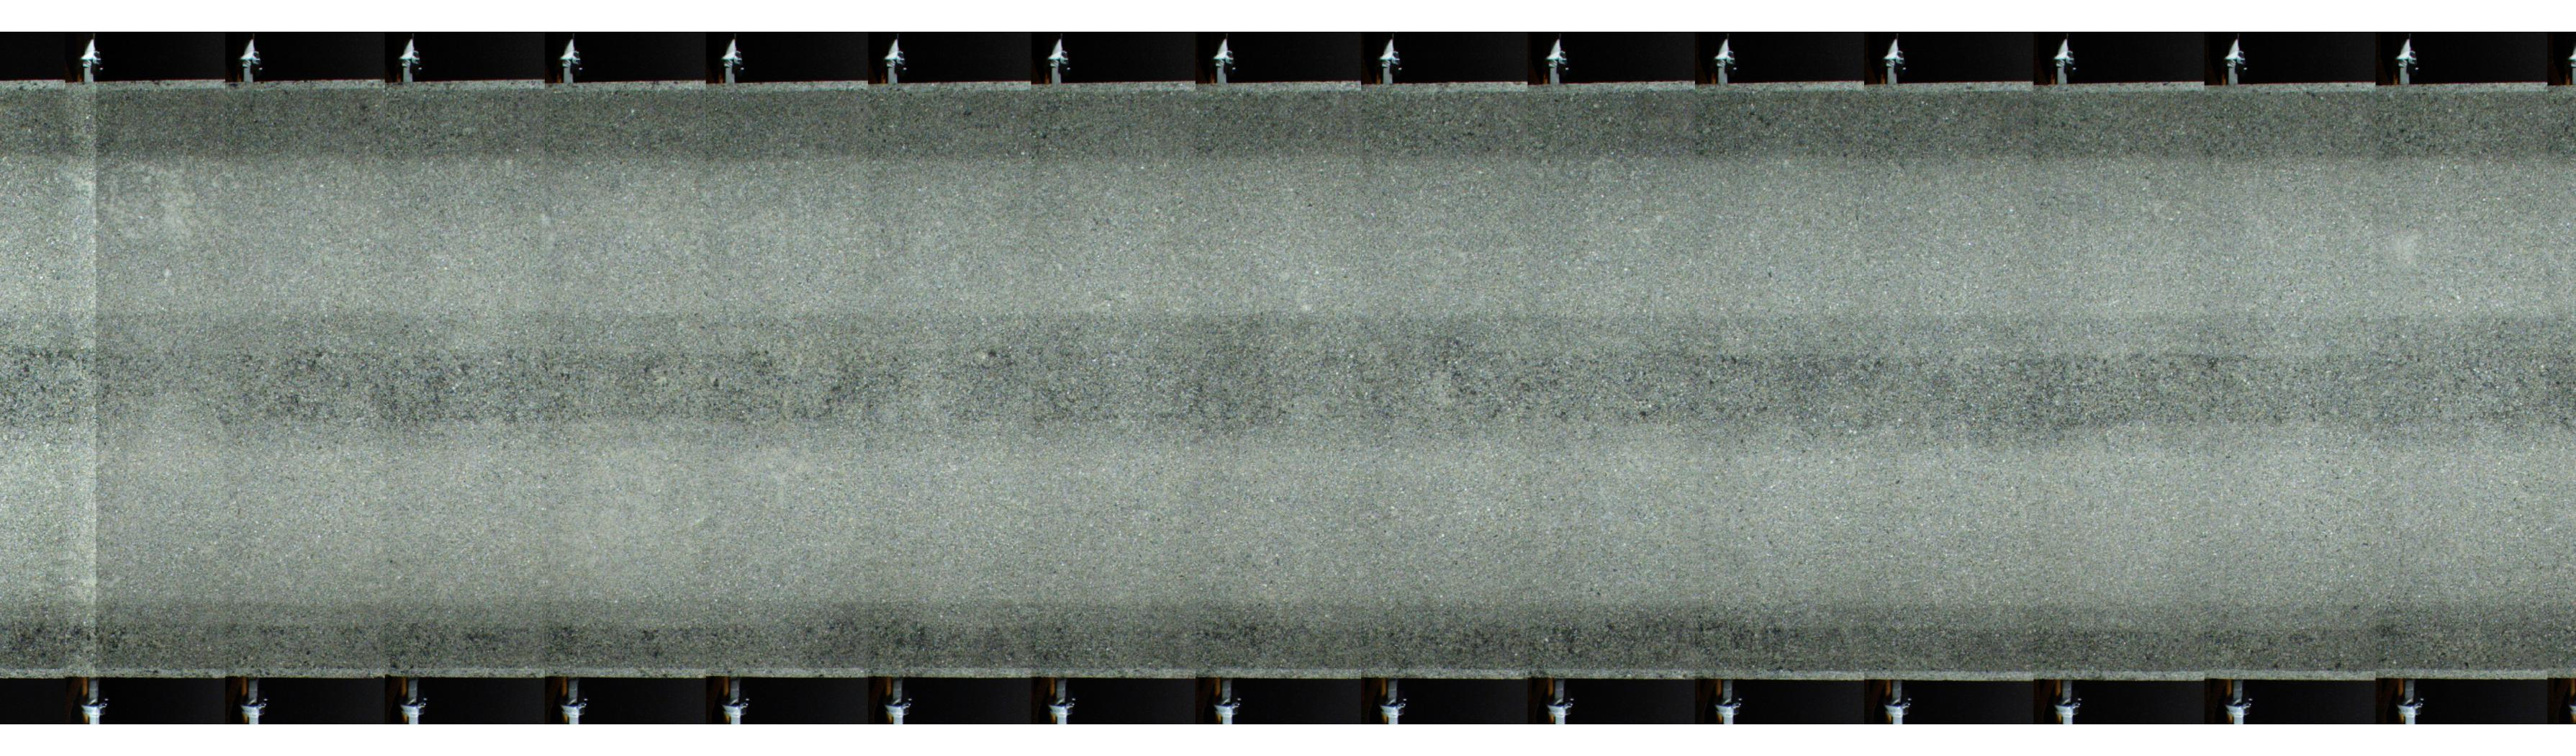concrete: (0, 81, 2561, 674)
